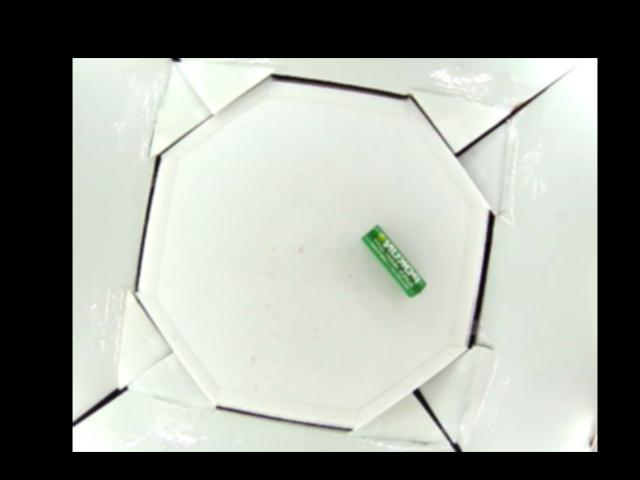Battery: (361, 224, 426, 299)
